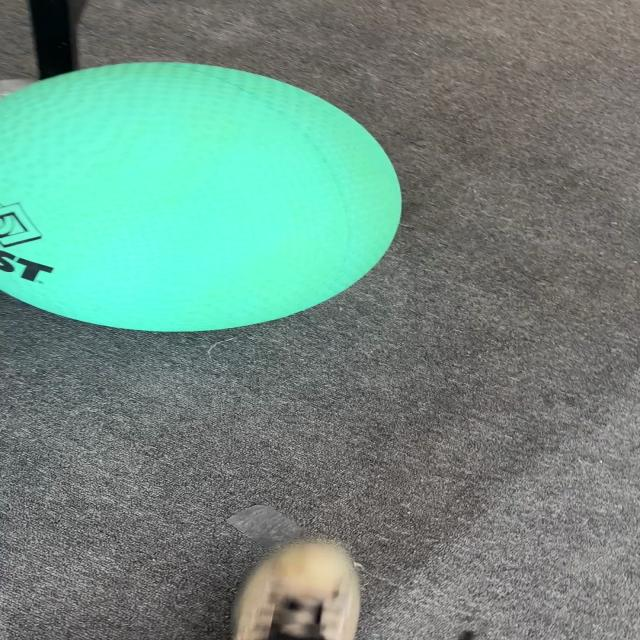Algae: (1, 61, 403, 333)
